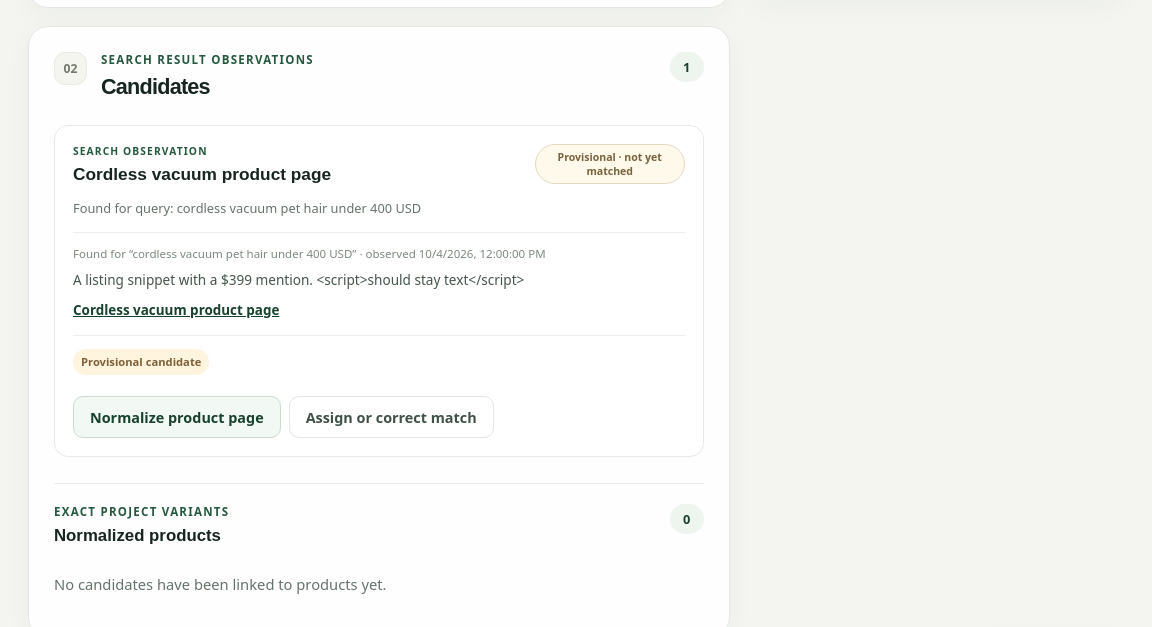
Test case: Discover › loads variant choices beyond the first catalog page
The width and height of the screenshot is (1152, 627).
(page scrolled)
Check: the heading "Cordless vacuum product page" is shown, box top-left (73, 163), bottom-right (331, 186)
Step 1. Click the button "Assign or correct match" → (391, 417), box top-left (289, 396), bottom-right (494, 438)
(page scrolled)
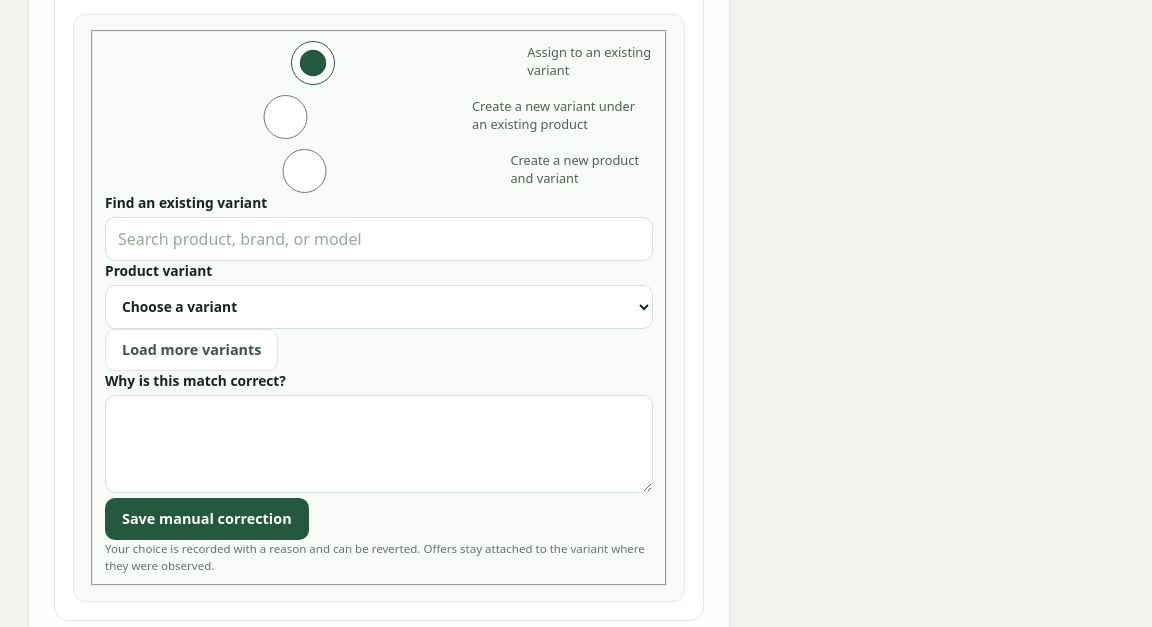
Step 2. Click the button "Load more variants" → (192, 350), box top-left (105, 329), bottom-right (278, 371)
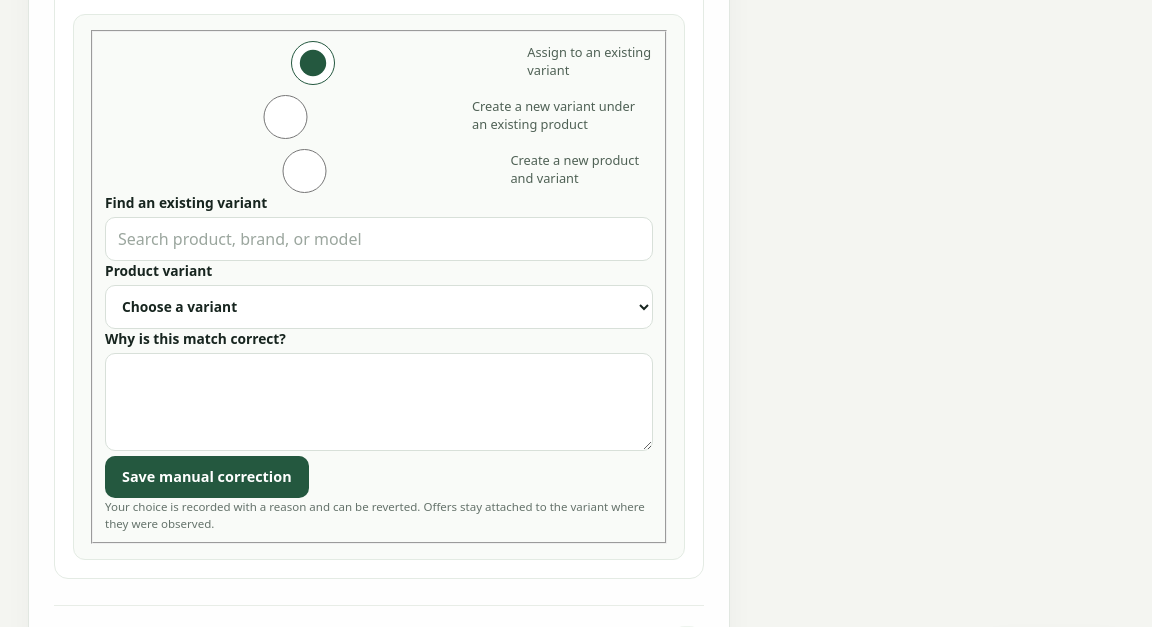
Step 3. Select "Acme · Acme Clean 4 target page · AX-400 · Pet kit" in the dropdown labelled "Product variant" → (379, 307), box top-left (105, 285), bottom-right (653, 329)
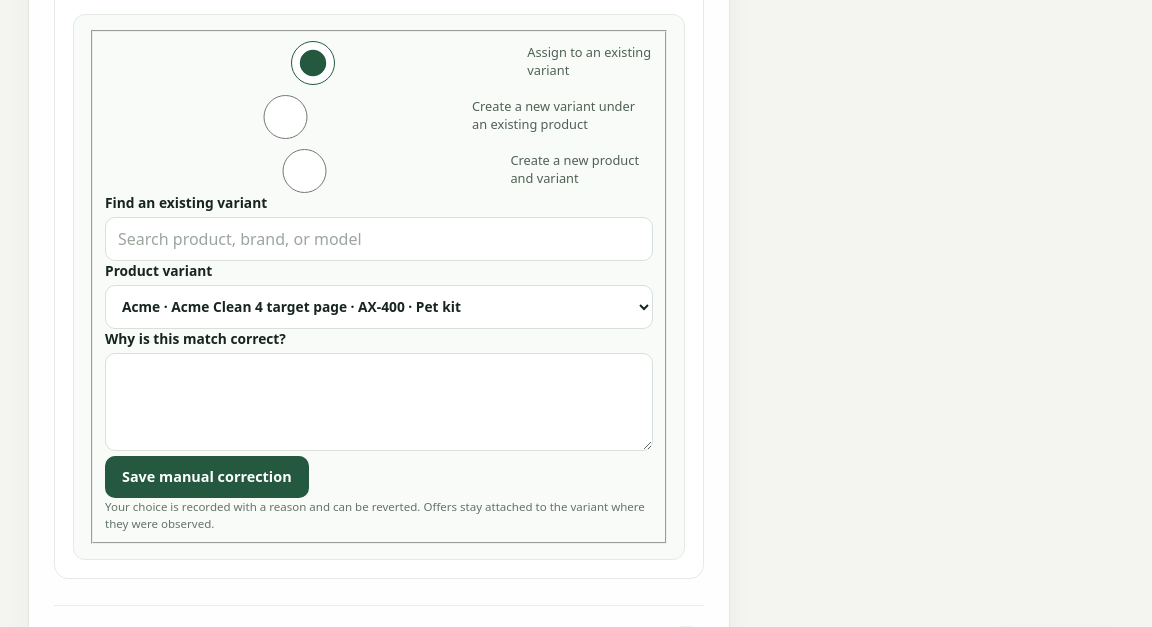
Step 4. Type "This result is the exact variant." into the text box labelled "Why is this match correct?" → (379, 402), box top-left (105, 353), bottom-right (653, 451)
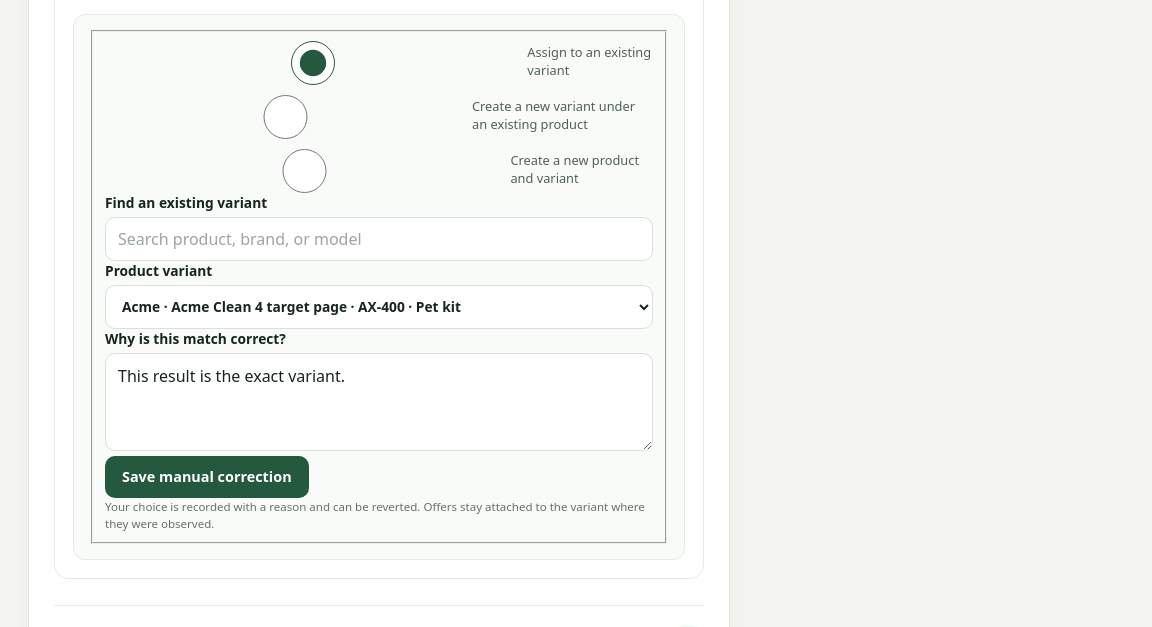
Step 5. Click the button "Save manual correction" → (207, 477), box top-left (105, 456), bottom-right (309, 498)
(page scrolled)
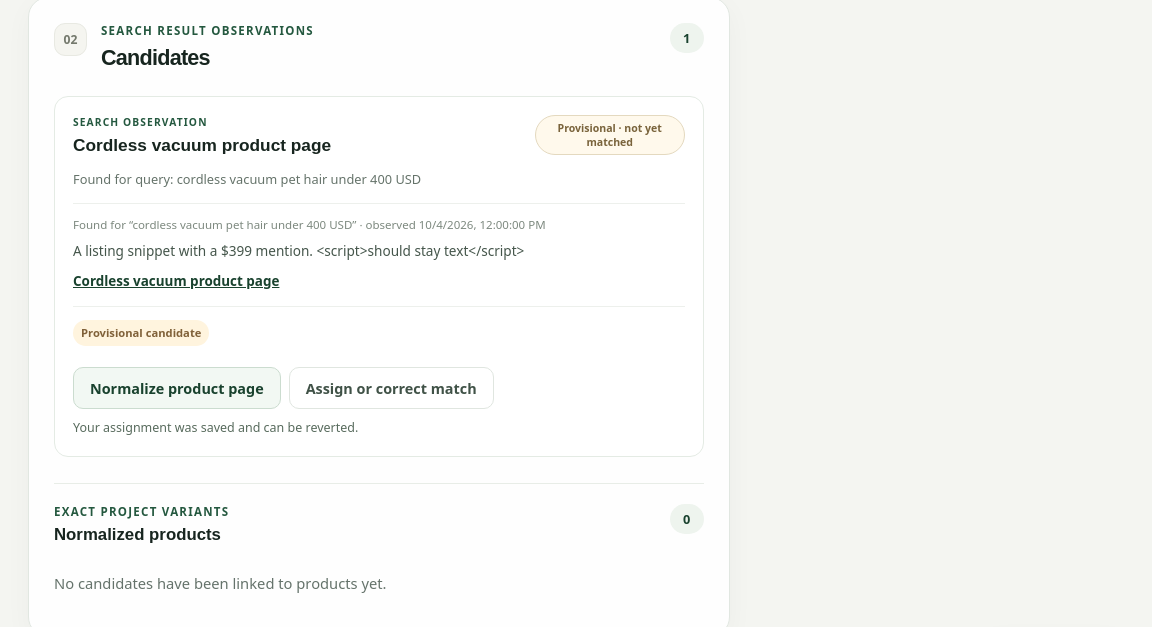
Check: the text "Your assignment was saved and can be reverted." is shown, box top-left (73, 419), bottom-right (358, 436)
